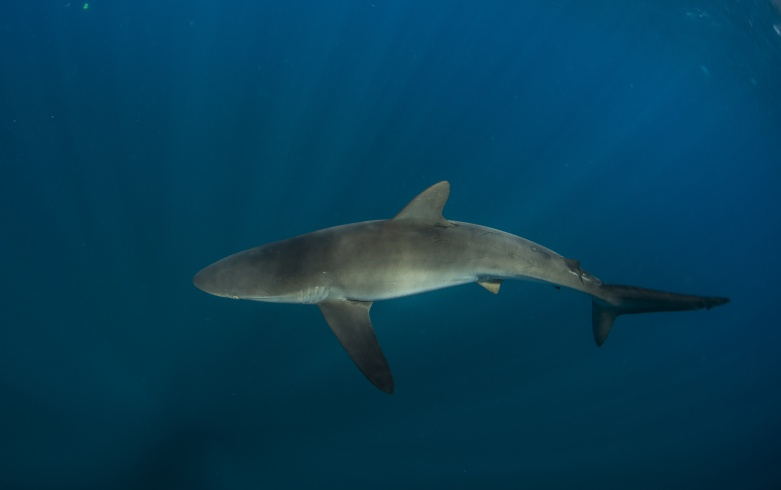Sedoso: (186, 172, 746, 401)
